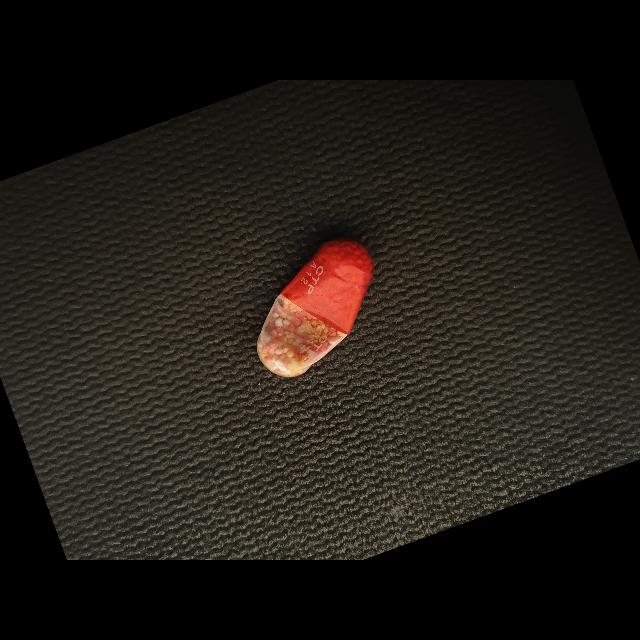Defective Capsule: (257, 239, 374, 377)
